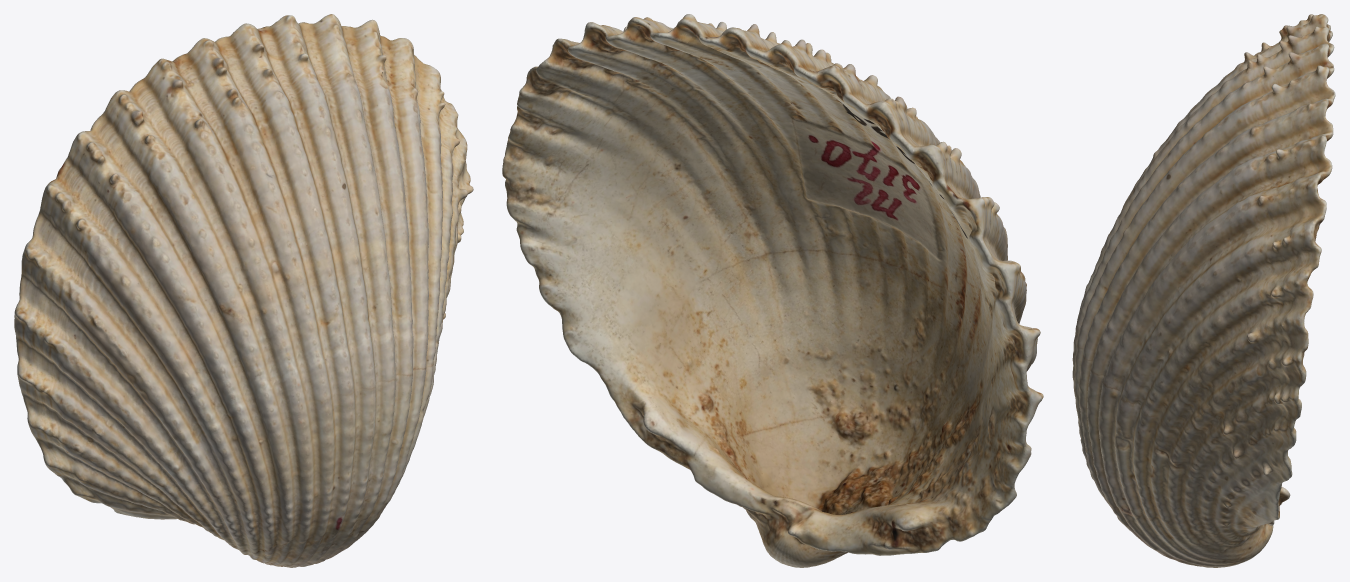
File: EWS0014081.glb
3 views of the same model, side by side, from view 1: azimuth 30°, elevation 25°; view 2: azimuth 150°, elevation 25°; view 3: azimuth 270°, elevation 25° (orthographic). The views are drawn at different scales.
Visible parts, largest first — view 1: input; view 2: input; view 3: input.
Part boxes in pixels (x1,y1,x2,y2): input: (14, 14, 473, 567); input: (502, 14, 1043, 567); input: (1072, 14, 1335, 567).
Bounding box in the file's own units: 0.0303 × 0.0313 × 0.0143.
Materials: 1 (1 with a texture image).
